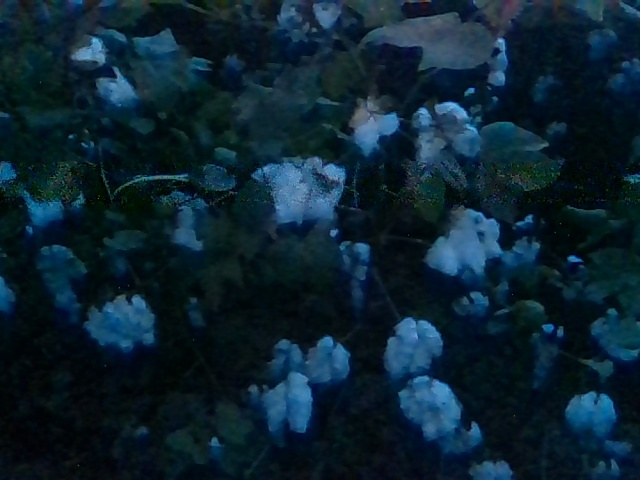cotton: (394, 377, 483, 455), (406, 99, 487, 184), (254, 157, 348, 230), (1, 153, 83, 226), (427, 203, 498, 284), (246, 368, 315, 447), (80, 289, 159, 355), (377, 316, 444, 386), (559, 387, 621, 447), (245, 338, 307, 397), (159, 189, 214, 254), (335, 236, 372, 321), (302, 330, 354, 388), (94, 64, 142, 113), (485, 38, 513, 90), (67, 36, 109, 68), (466, 455, 514, 480), (3, 267, 16, 314)
